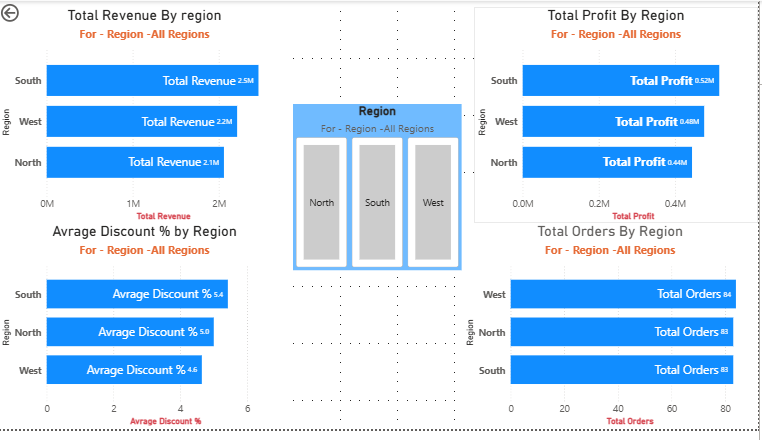

The dashboard page shown, as its layout file describes it:
{"tool":"powerbi","page":{"name":"Regional Analytic","canvas":[1280,720],"ordinal":4},"visuals":[{"type":"barChart","title":"Total Revenue By region","fields":{"Y":["Measures (2).Total Revenue"],"Category":["Orders.Region"]},"box":[0,9.4,493.2,365.2],"z":0},{"type":"barChart","title":"Total Profit By Region","fields":{"Category":["Orders.Region"],"Y":["Measures (2).Total Profit"]},"box":[801.9,9.4,478.1,365.2],"z":1000},{"type":"barChart","fields":{"Y":["Measures (2).Avrage Discount %"],"Category":["Orders.Region"]},"box":[0,374.6,493.2,346.4],"z":2000},{"type":"advancedSlicerVisual","fields":{"Values":["Orders.Region"]},"box":[496.9,173.2,284.2,280.5],"z":3000},{"type":"barChart","title":"Total Orders By Region","fields":{"Y":["Measures (2).Total Orders"],"Category":["Orders.Region"]},"box":[781.2,374.6,498.8,346.4],"z":4000},{"type":"actionButton","box":[0,0,100,40],"z":5000}]}

Visuals, with their boxes in screenshot pixels (x1, y1, x2, y2), scaled from the page's 1280x720 canvas onto the 762x440 screenshot:
"Total Revenue By region" barChart: [x1=0, y1=6, x2=294, y2=229]
"Total Profit By Region" barChart: [x1=477, y1=6, x2=761, y2=229]
barChart - Measures (2).Avrage Discount % x Orders.Region: [x1=0, y1=229, x2=294, y2=439]
advancedSlicerVisual - Orders.Region: [x1=296, y1=106, x2=465, y2=277]
"Total Orders By Region" barChart: [x1=465, y1=229, x2=761, y2=439]
actionButton: [x1=0, y1=0, x2=60, y2=24]
